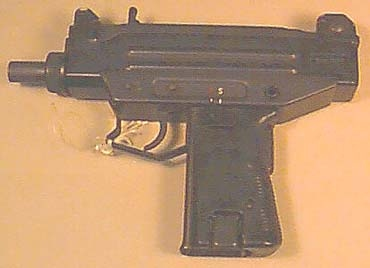rifle: (13, 6, 361, 260)
